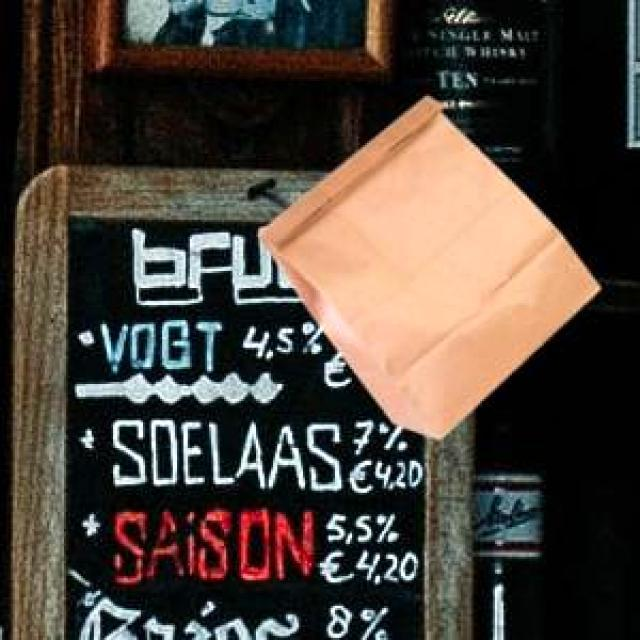Paper_Bag: (254, 92, 596, 436)
